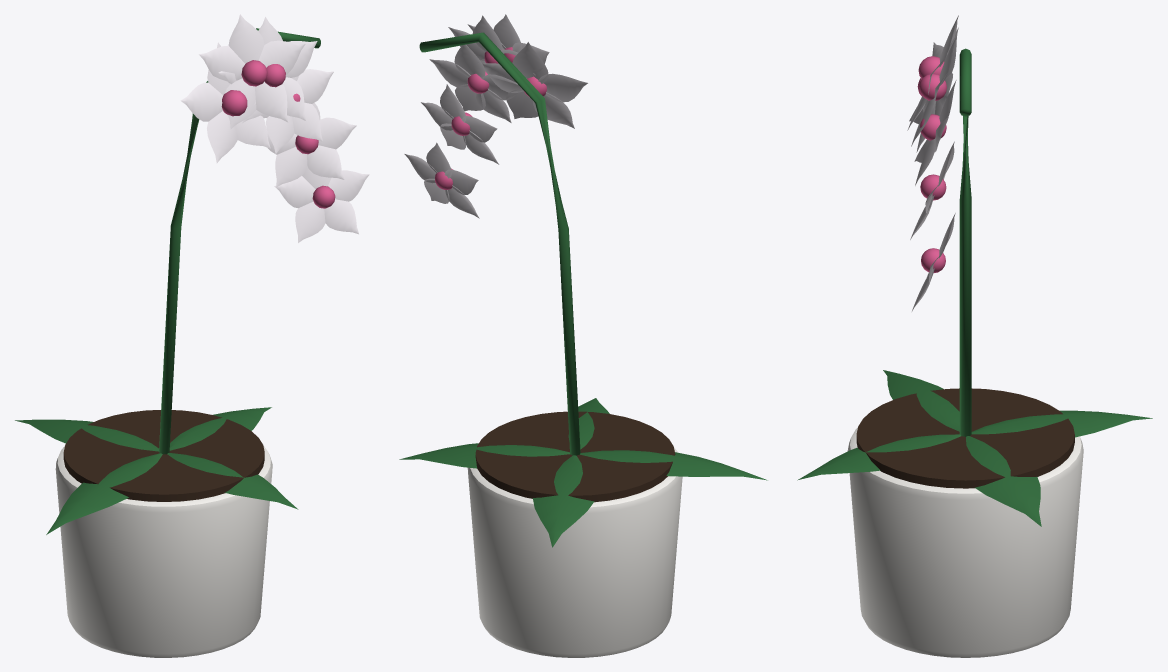
File: plant_orchid.glb
3 views of the same model, side by side, from view 1: azimuth 30°, elevation 25°; view 2: azimuth 150°, elevation 25°; view 3: azimuth 270°, elevation 25° (orthographic). The views are drawn at different scales.
Parts seen in each view (by area): view 1: cyl, cyl.001, tube, leaf.001, leaf, leaf.002, leaf.003, leaf.009, leaf.005, leaf.006, leaf.012, leaf.010 (+17 smaller); view 2: cyl, cyl.001, tube, leaf, leaf.001, leaf.003, leaf.005, leaf.004, leaf.002, leaf.019, leaf.006, leaf.007 (+4 smaller); view 3: cyl, cyl.001, tube, leaf.003, leaf, leaf.002, leaf.001, sphere.002.
Boxes of the visible parts, x1,y1,x2,y2 form: cyl: (55,445,272,657); cyl.001: (63,410,264,501); tube: (159,28,320,454); leaf.001: (46,453,162,534); leaf: (15,419,158,451); leaf.002: (167,453,298,509); leaf.003: (169,407,271,450); leaf.009: (228,14,264,63); leaf.005: (180,82,223,121); leaf.006: (207,111,237,163); leaf.012: (254,81,287,122); leaf.010: (199,45,244,83); cyl: (467,447,682,657); cyl.001: (475,411,675,502); tube: (419,32,580,455); leaf: (532,455,594,547); leaf.001: (580,450,767,480); leaf.003: (399,443,569,468); leaf.005: (538,73,587,102); leaf.004: (512,42,548,83); leaf.002: (568,398,609,449); leaf.019: (454,44,485,79); leaf.006: (533,92,574,128); leaf.007: (506,88,538,118); cyl: (847,427,1083,657); cyl.001: (856,388,1074,488); tube: (959,48,971,436); leaf.003: (966,436,1041,526); leaf: (971,410,1152,437); leaf.002: (797,434,960,480); leaf.001: (883,370,959,431); sphere.002: (919,73,946,100).
Size of the model in its own units: 29.22 by 47.74 by 24.06.
